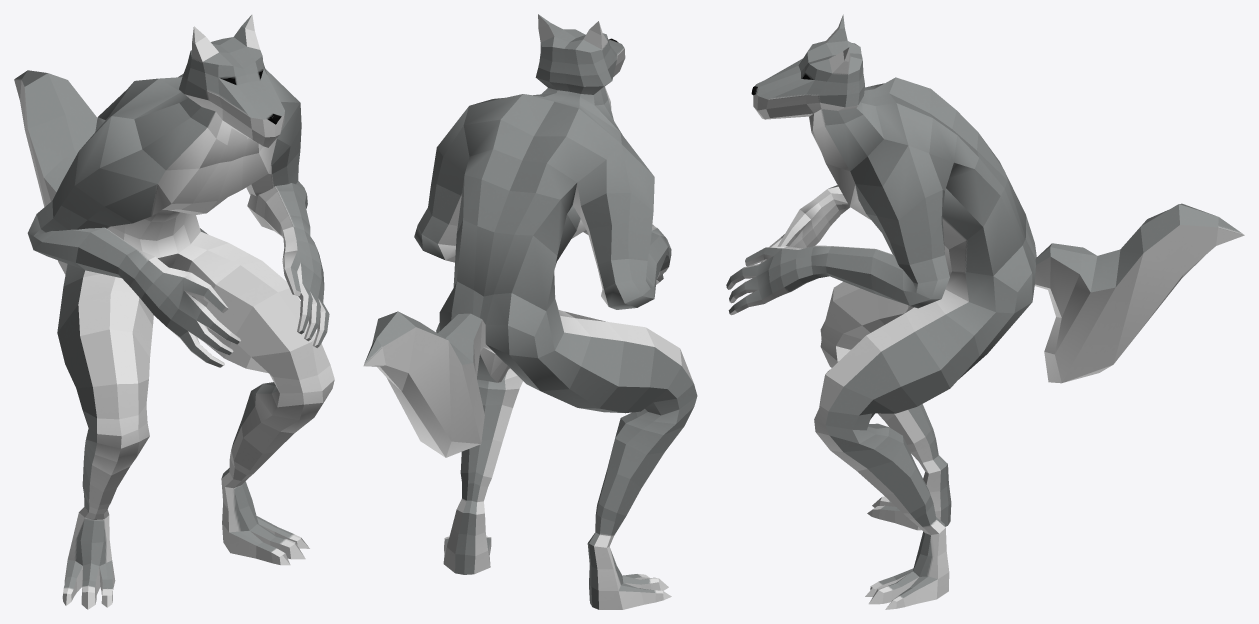
File: WolfIdle_(120).obj
3 renders of one model, left to right at view 1: azimuth 30°, elevation 25°; view 2: azimuth 150°, elevation 25°; view 3: azimuth 270°, elevation 25°, orthographic. The views are drawn at different scales.
Visible parts, largest first — view 1: Box001; view 2: Box001; view 3: Box001.
Part boxes in pixels (left/top/right/bottom): Box001: left=14, top=14, right=334, bottom=609; Box001: left=363, top=14, right=697, bottom=609; Box001: left=726, top=14, right=1244, bottom=609.
Size of the model in its own units: 62.09 by 131 by 115.
